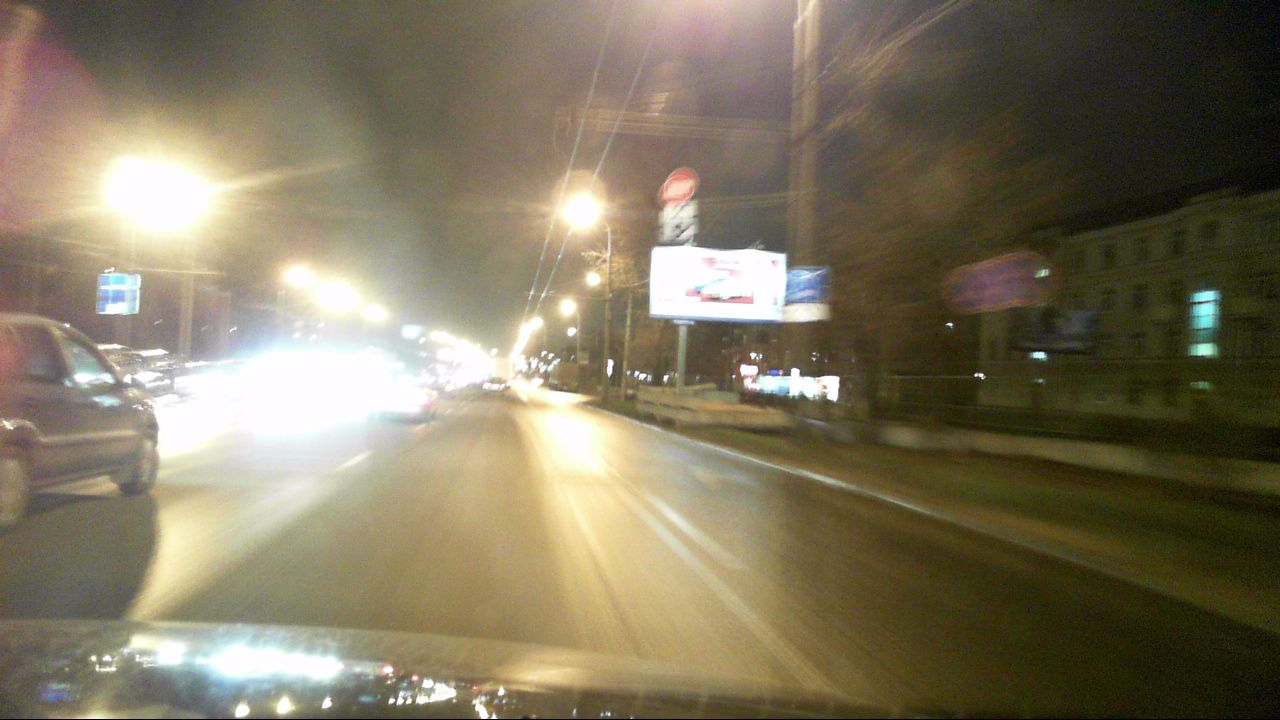No Parking: (971, 260, 1022, 312)
